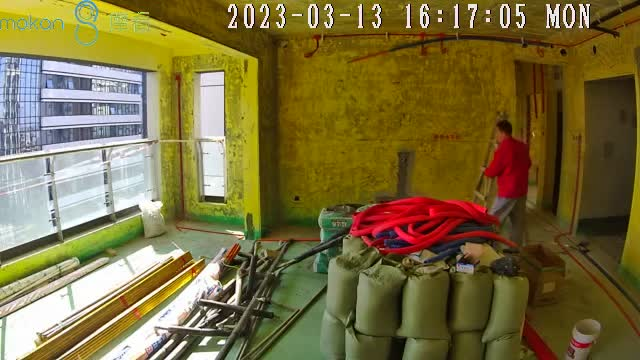people: (479, 121, 530, 255)
window: (1, 52, 161, 230), (195, 72, 226, 203)
